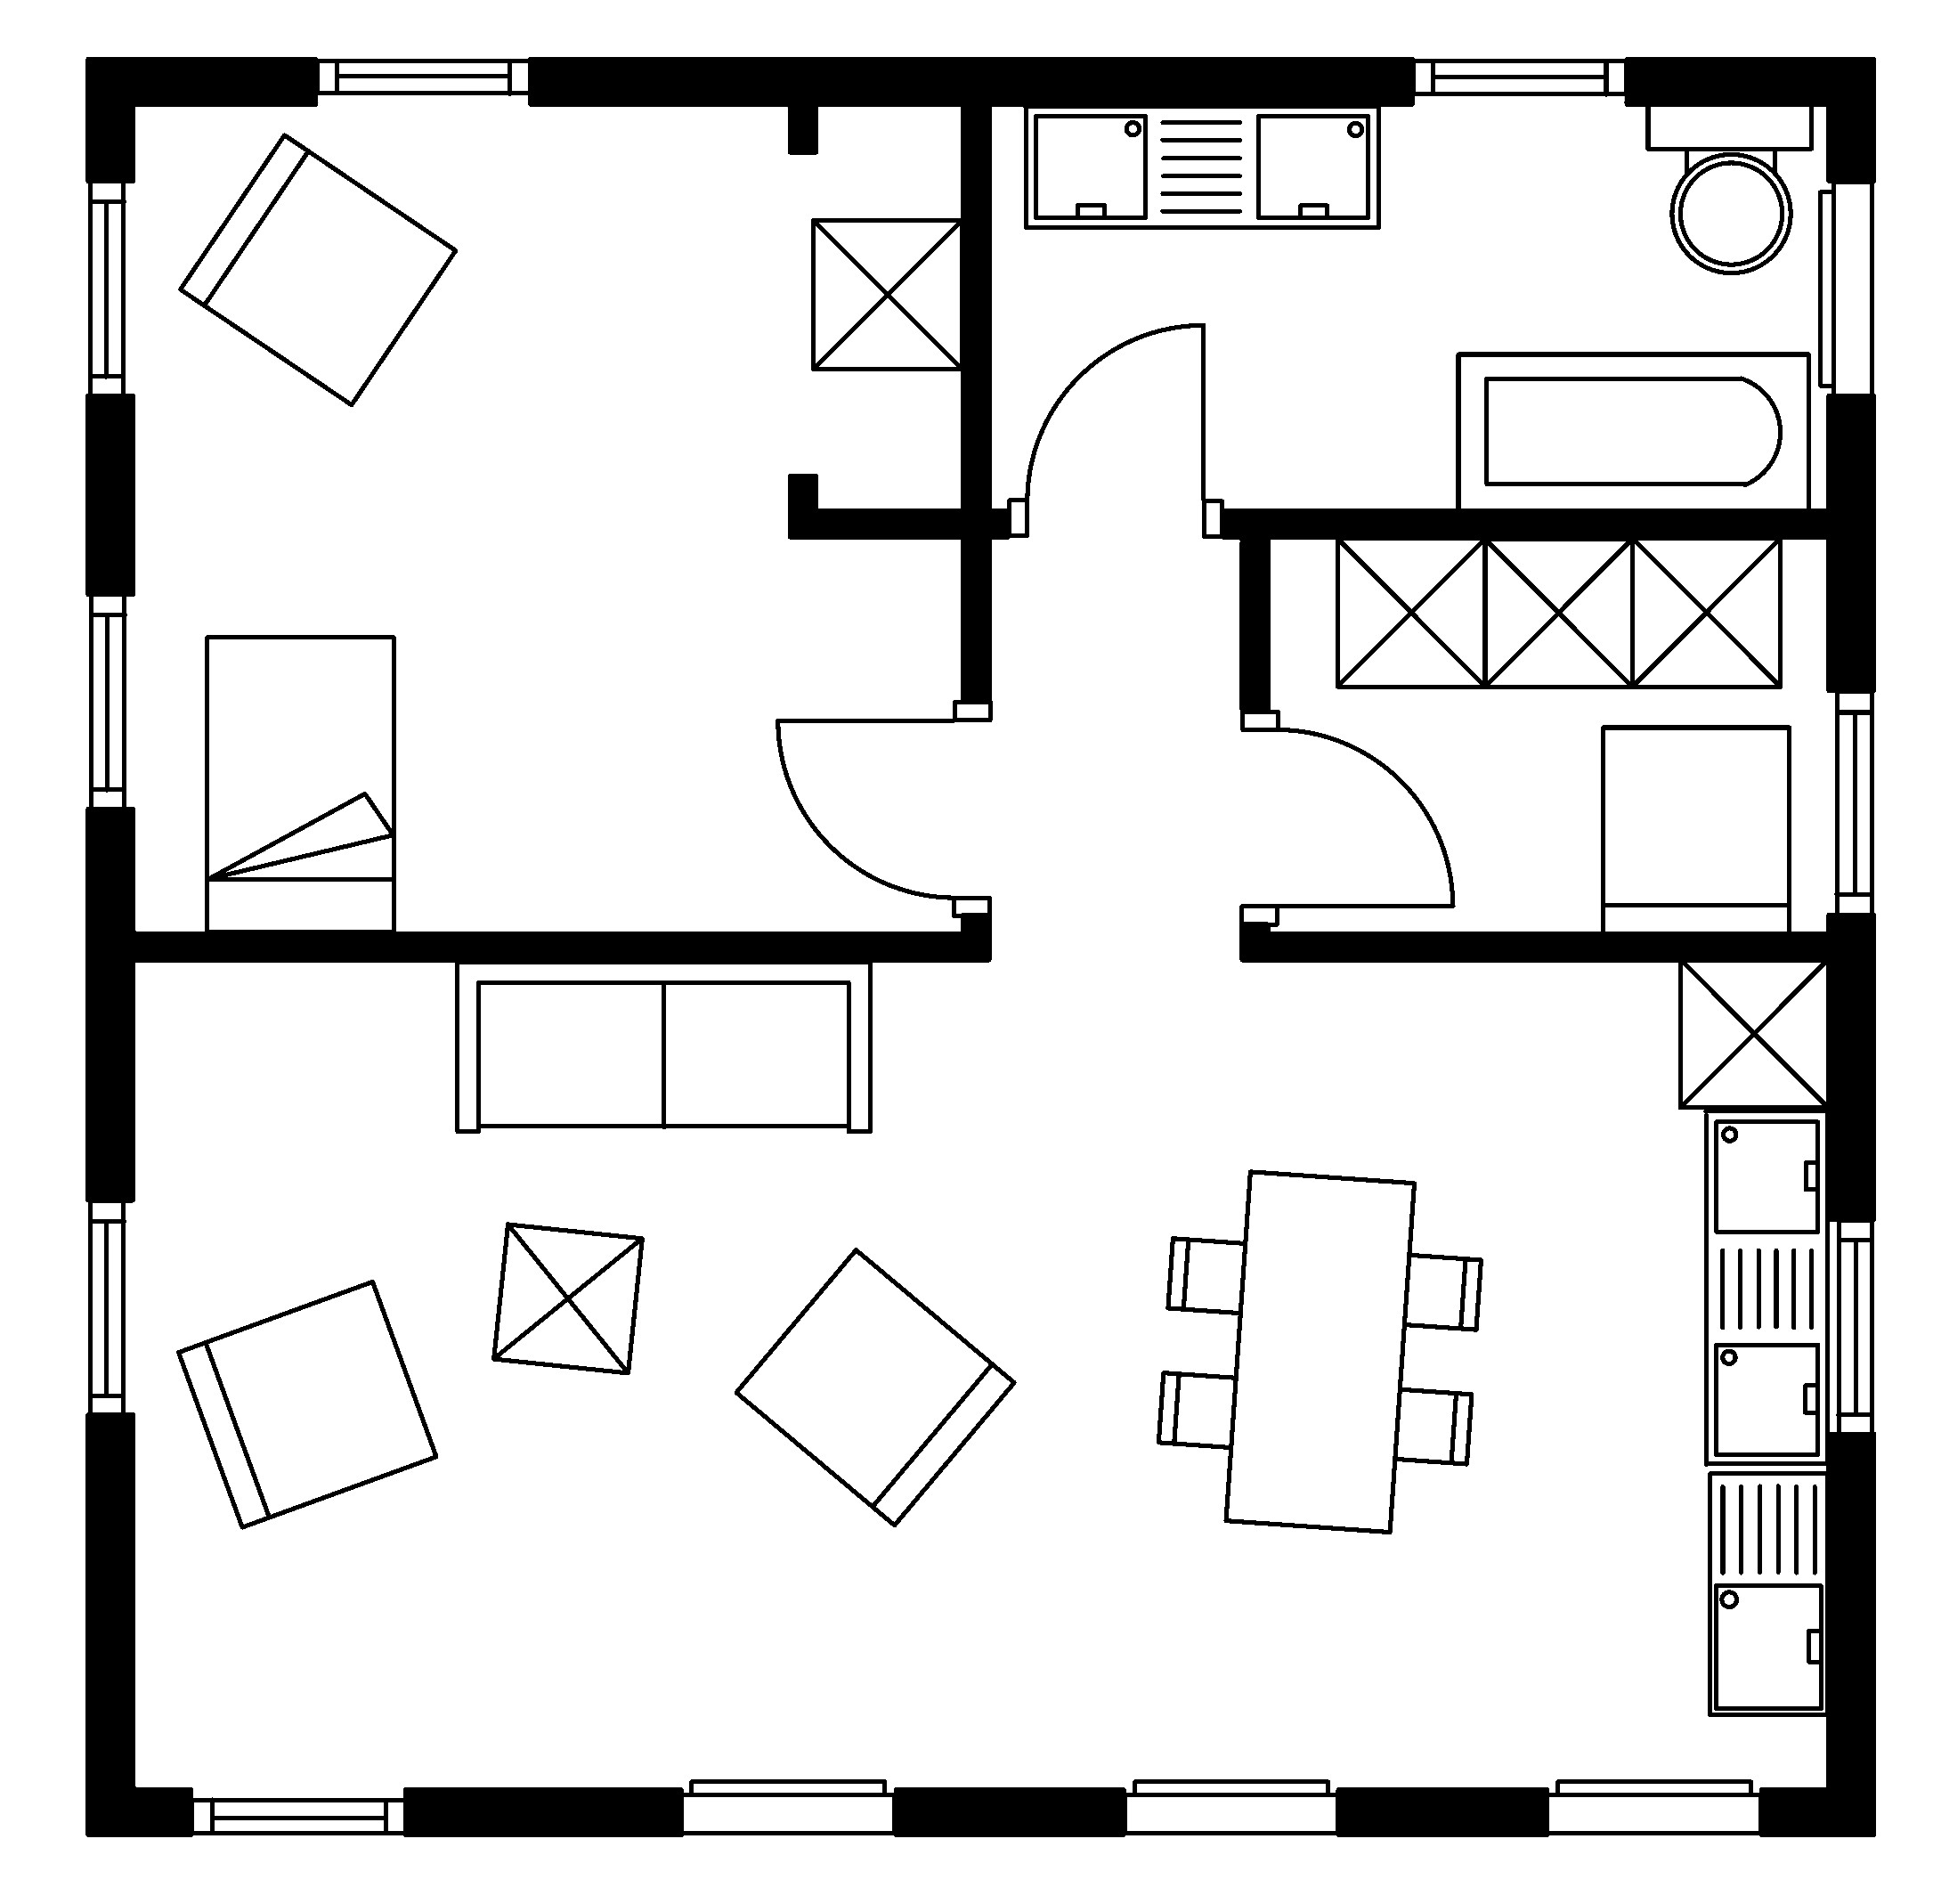bed: (202, 633, 397, 935)
coffee_table: (809, 216, 966, 371), (490, 1221, 645, 1376), (1480, 534, 1635, 689), (1628, 534, 1783, 689), (1333, 534, 1489, 689), (1675, 955, 1830, 1111)
dining_table: (1154, 1168, 1483, 1536)
large_sink: (1644, 101, 1814, 274)
large_sofa: (453, 959, 873, 1135)
sink: (1706, 1470, 1830, 1717)
small_sofa: (732, 1247, 1016, 1527), (176, 131, 458, 408), (174, 1278, 439, 1529), (1598, 724, 1792, 936)
tub: (1454, 350, 1811, 513)
twin_sink: (1021, 101, 1382, 230), (1701, 1107, 1830, 1468)
